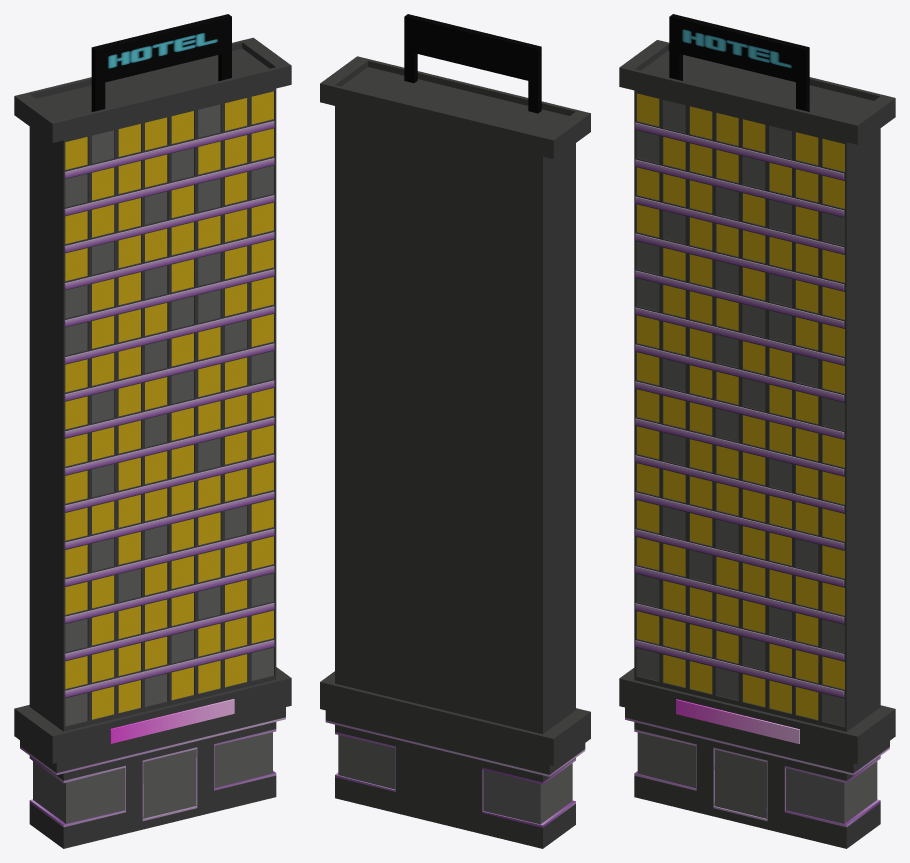
The model's file is skyscraper_04.fbx.
3 renders of one model, left to right at view 1: azimuth 30°, elevation 25°; view 2: azimuth 150°, elevation 25°; view 3: azimuth 330°, elevation 25°, orthographic. The views are drawn at different scales.
Visible parts, largest first — view 1: Skyscraper_04.1, Skyscraper_04.3, Skyscraper_04.2, Skyscraper_04.4, Skyscraper_04.5; view 2: Skyscraper_04.1, Skyscraper_04.4, Skyscraper_04.5; view 3: Skyscraper_04.1, Skyscraper_04.3, Skyscraper_04.2, Skyscraper_04.4, Skyscraper_04.5.
Part boxes in pixels (x1,y1,x2,y2): Skyscraper_04.1: (14, 14, 291, 848); Skyscraper_04.3: (64, 121, 274, 697); Skyscraper_04.2: (110, 699, 234, 743); Skyscraper_04.4: (29, 729, 276, 827); Skyscraper_04.5: (20, 717, 285, 775); Skyscraper_04.1: (320, 14, 590, 848); Skyscraper_04.4: (335, 732, 575, 827); Skyscraper_04.5: (325, 720, 585, 776); Skyscraper_04.1: (619, 14, 895, 848); Skyscraper_04.3: (635, 122, 844, 697); Skyscraper_04.2: (676, 699, 799, 743); Skyscraper_04.4: (634, 729, 880, 827); Skyscraper_04.5: (625, 717, 889, 775).
Bounding box in the file's own units: 2417 × 7626 × 682.
